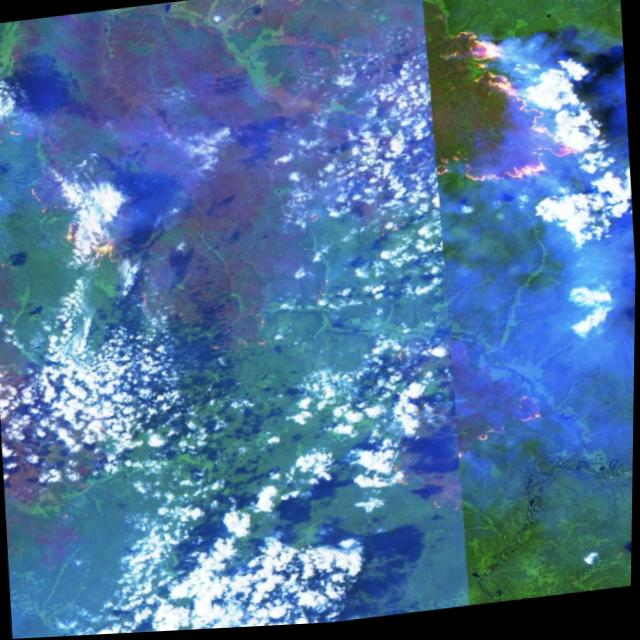fire: (428, 14, 606, 194), (474, 394, 554, 451), (59, 213, 131, 274)
